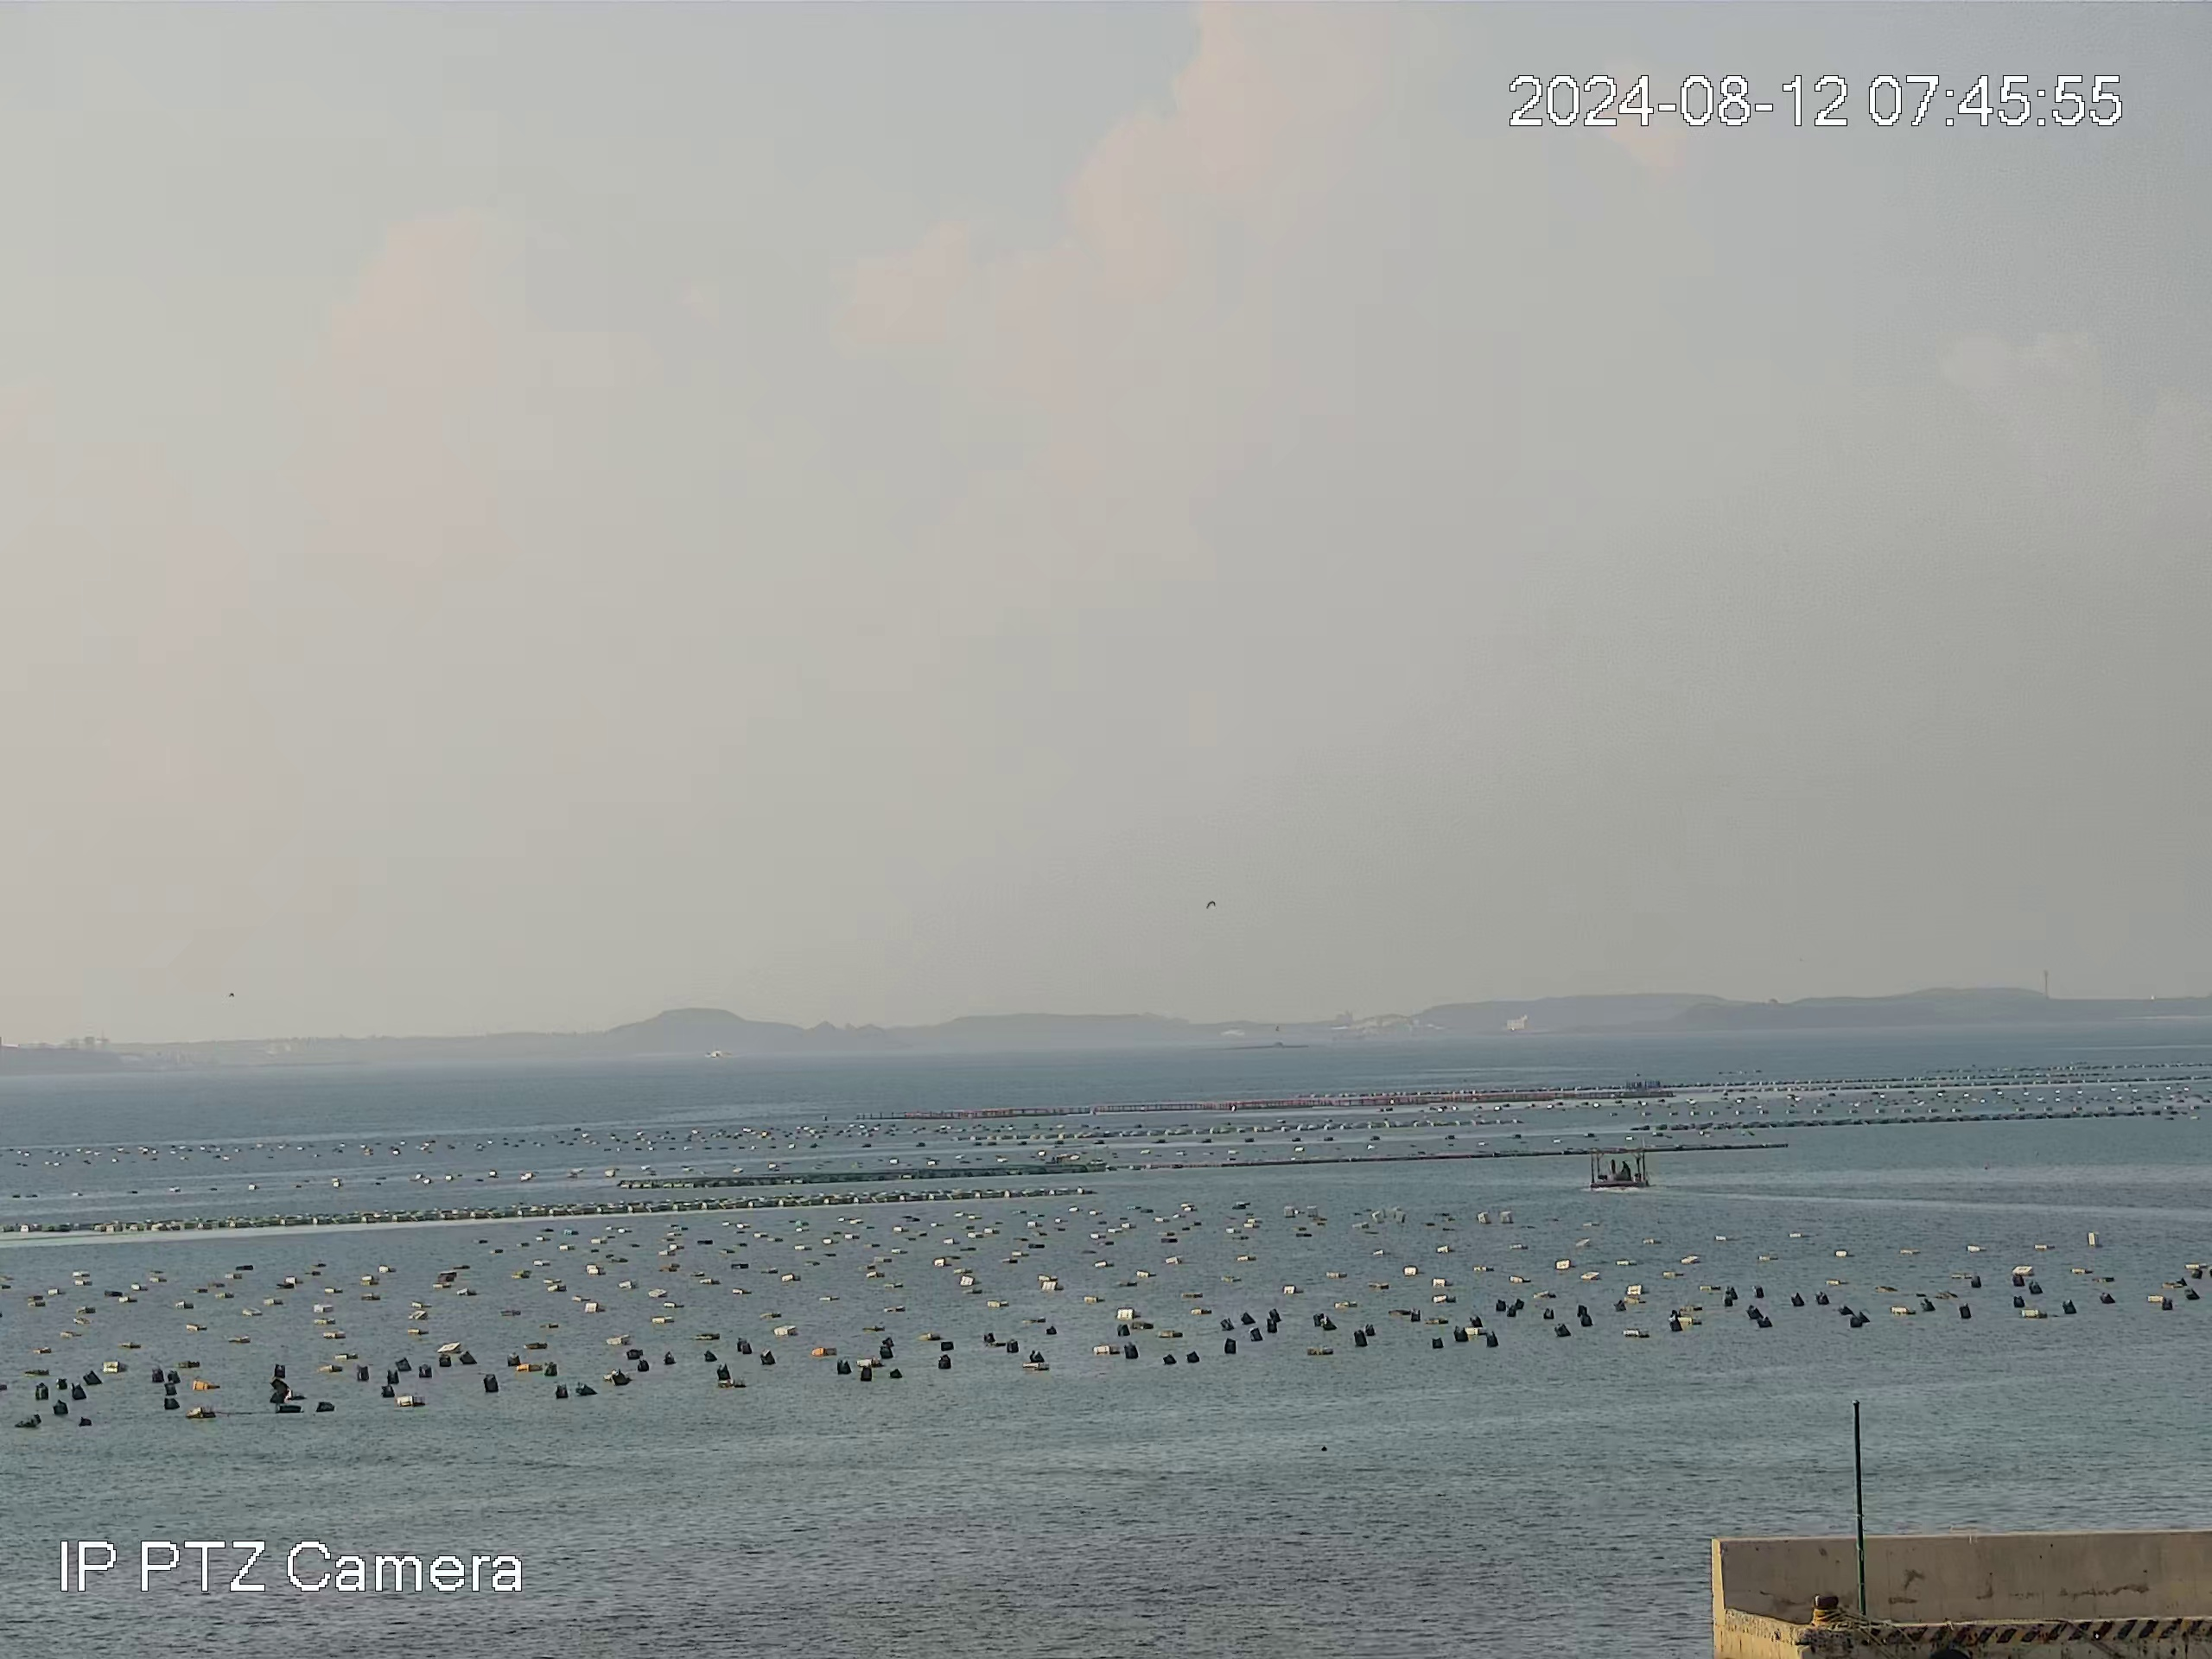boat: (1588, 1146, 1650, 1188)
